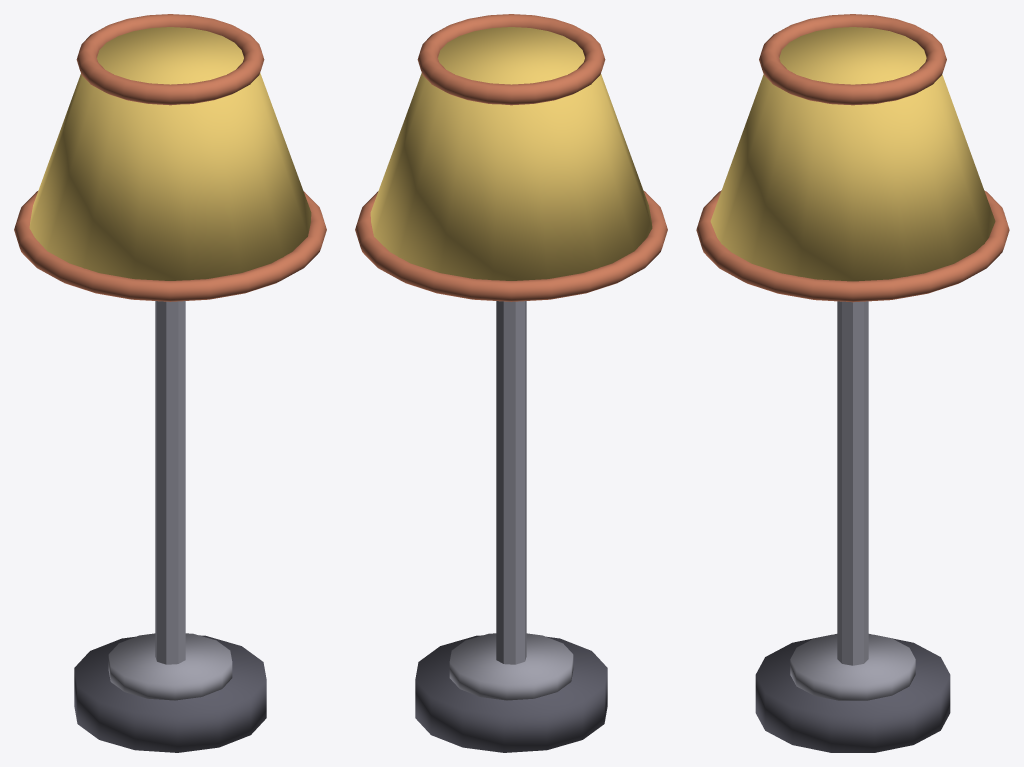
The model's file is lamp.glb.
3 views of the same model, side by side, from view 1: azimuth 30°, elevation 25°; view 2: azimuth 150°, elevation 25°; view 3: azimuth 270°, elevation 25° (orthographic).
Parts seen in each view (by area): view 1: lamp; view 2: lamp; view 3: lamp.
Boxes of the visible parts, x1,y1,x2,y2 form: lamp: (14, 14, 326, 752); lamp: (355, 14, 667, 752); lamp: (696, 14, 1009, 752).
Bounding box in the file's own units: 0.9 × 2.1 × 0.9.
